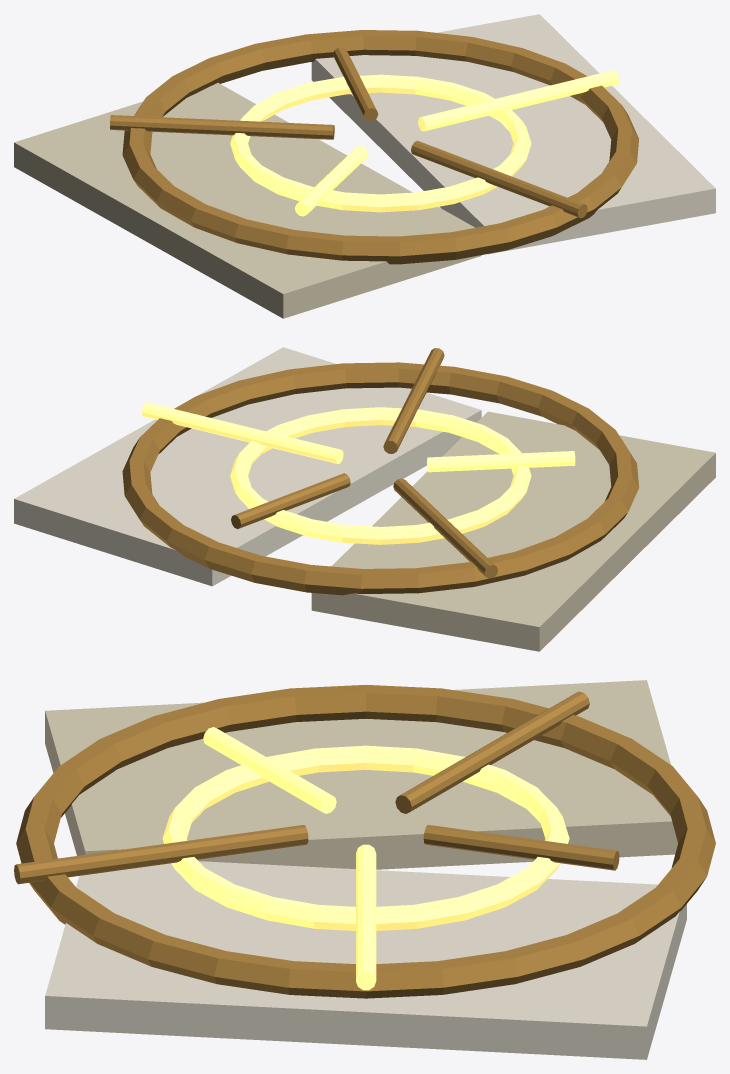
The model's file is runtime.glb.
The picture shows the model from 3 angles, top to bottom: view 1: azimuth 30°, elevation 25°; view 2: azimuth 150°, elevation 25°; view 3: azimuth 270°, elevation 25°; orthographic projection. The views are drawn at different scales.
Visible parts, largest first — view 1: aetherion-astronomical-medallion-v02_field_west_nocol, aetherion-astronomical-medallion-v02_field_east_nocol, aetherion-astronomical-medallion-v02_outer_meridian_nocol, aetherion-astronomical-medallion-v02_inner_meridian_nocol, aetherion-astronomical-medallion-v02_bearing_02_nocol, aetherion-astronomical-medallion-v02_bearing_00_nocol, aetherion-astronomical-medallion-v02_bearing_04_nocol, aetherion-astronomical-medallion-v02_bearing_03_nocol, aetherion-astronomical-medallion-v02_bearing_01_nocol; view 2: aetherion-astronomical-medallion-v02_field_west_nocol, aetherion-astronomical-medallion-v02_field_east_nocol, aetherion-astronomical-medallion-v02_outer_meridian_nocol, aetherion-astronomical-medallion-v02_inner_meridian_nocol, aetherion-astronomical-medallion-v02_bearing_00_nocol, aetherion-astronomical-medallion-v02_bearing_03_nocol, aetherion-astronomical-medallion-v02_bearing_02_nocol, aetherion-astronomical-medallion-v02_bearing_01_nocol, aetherion-astronomical-medallion-v02_bearing_04_nocol; view 3: aetherion-astronomical-medallion-v02_field_east_nocol, aetherion-astronomical-medallion-v02_field_west_nocol, aetherion-astronomical-medallion-v02_outer_meridian_nocol, aetherion-astronomical-medallion-v02_inner_meridian_nocol, aetherion-astronomical-medallion-v02_bearing_04_nocol, aetherion-astronomical-medallion-v02_bearing_02_nocol, aetherion-astronomical-medallion-v02_bearing_01_nocol, aetherion-astronomical-medallion-v02_bearing_00_nocol, aetherion-astronomical-medallion-v02_bearing_03_nocol.
Boxes of the visible parts, x1=… form: aetherion-astronomical-medallion-v02_field_west_nocol: x1=14, y1=83, x2=481, y2=318; aetherion-astronomical-medallion-v02_field_east_nocol: x1=311, y1=14, x2=715, y2=254; aetherion-astronomical-medallion-v02_outer_meridian_nocol: x1=122, y1=30, x2=638, y2=264; aetherion-astronomical-medallion-v02_inner_meridian_nocol: x1=230, y1=74, x2=531, y2=212; aetherion-astronomical-medallion-v02_bearing_02_nocol: x1=110, y1=115, x2=334, y2=139; aetherion-astronomical-medallion-v02_bearing_00_nocol: x1=418, y1=70, x2=619, y2=131; aetherion-astronomical-medallion-v02_bearing_04_nocol: x1=411, y1=140, x2=587, y2=218; aetherion-astronomical-medallion-v02_bearing_03_nocol: x1=294, y1=146, x2=368, y2=216; aetherion-astronomical-medallion-v02_bearing_01_nocol: x1=333, y1=47, x2=378, y2=121; aetherion-astronomical-medallion-v02_field_west_nocol: x1=311, y1=411, x2=715, y2=651; aetherion-astronomical-medallion-v02_field_east_nocol: x1=14, y1=347, x2=481, y2=586; aetherion-astronomical-medallion-v02_outer_meridian_nocol: x1=122, y1=362, x2=639, y2=595; aetherion-astronomical-medallion-v02_inner_meridian_nocol: x1=230, y1=407, x2=531, y2=544; aetherion-astronomical-medallion-v02_bearing_00_nocol: x1=142, y1=402, x2=343, y2=464; aetherion-astronomical-medallion-v02_bearing_03_nocol: x1=427, y1=451, x2=575, y2=472; aetherion-astronomical-medallion-v02_bearing_02_nocol: x1=393, y1=478, x2=497, y2=578; aetherion-astronomical-medallion-v02_bearing_01_nocol: x1=231, y1=473, x2=350, y2=529; aetherion-astronomical-medallion-v02_bearing_04_nocol: x1=383, y1=348, x2=444, y2=453; aetherion-astronomical-medallion-v02_field_east_nocol: x1=45, y1=861, x2=686, y2=1059; aetherion-astronomical-medallion-v02_field_west_nocol: x1=45, y1=680, x2=677, y2=869; aetherion-astronomical-medallion-v02_outer_meridian_nocol: x1=16, y1=685, x2=715, y2=998; aetherion-astronomical-medallion-v02_inner_meridian_nocol: x1=162, y1=745, x2=569, y2=930; aetherion-astronomical-medallion-v02_bearing_04_nocol: x1=14, y1=825, x2=308, y2=884; aetherion-astronomical-medallion-v02_bearing_02_nocol: x1=395, y1=691, x2=589, y2=813; aetherion-astronomical-medallion-v02_bearing_01_nocol: x1=423, y1=825, x2=619, y2=870; aetherion-astronomical-medallion-v02_bearing_00_nocol: x1=356, y1=844, x2=376, y2=990; aetherion-astronomical-medallion-v02_bearing_03_nocol: x1=203, y1=727, x2=336, y2=813.
Size of the model in its own units: 6.07 by 0.5633 by 5.2.
